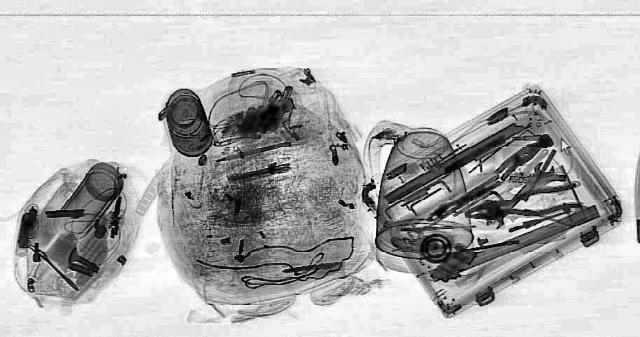Pliers: (454, 182, 592, 227)
Wrench: (478, 161, 562, 229)
